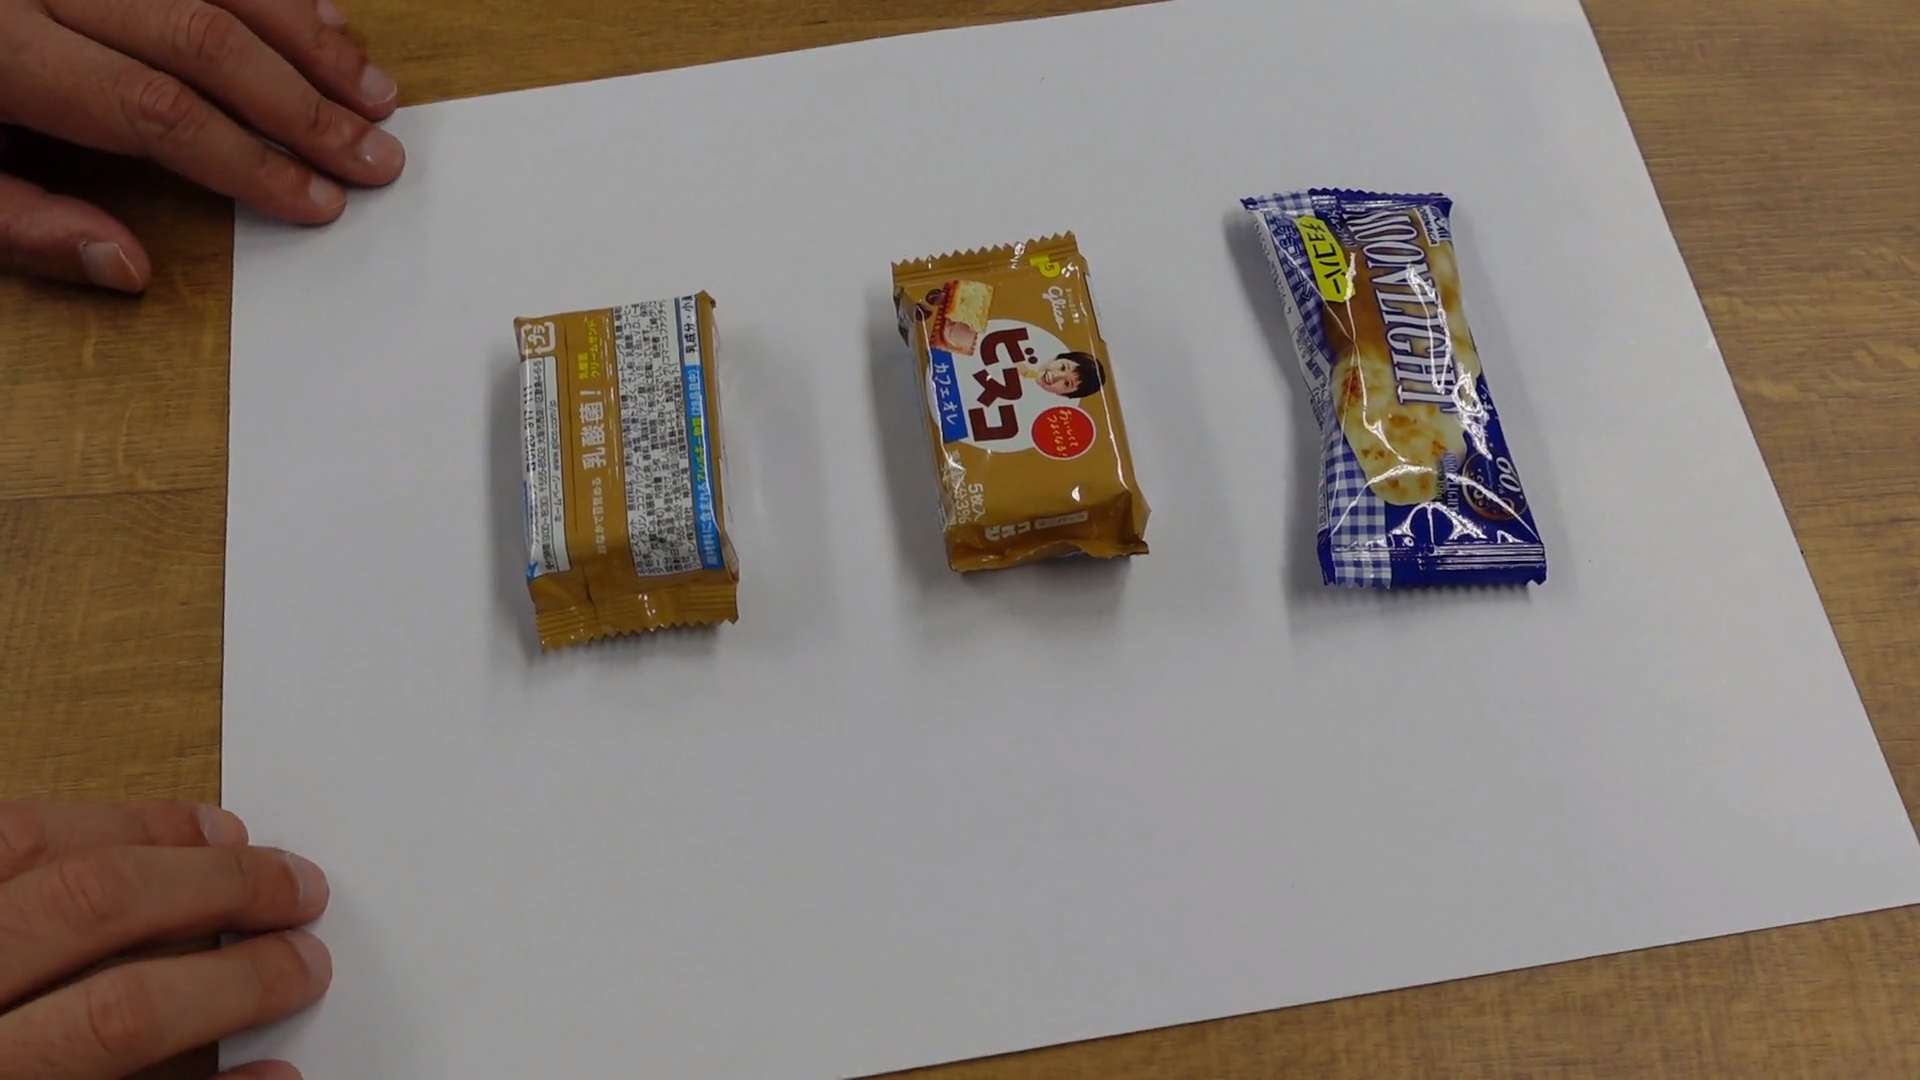BISCO_CafeAuLet: (898, 237, 1149, 568), (518, 295, 738, 646)
